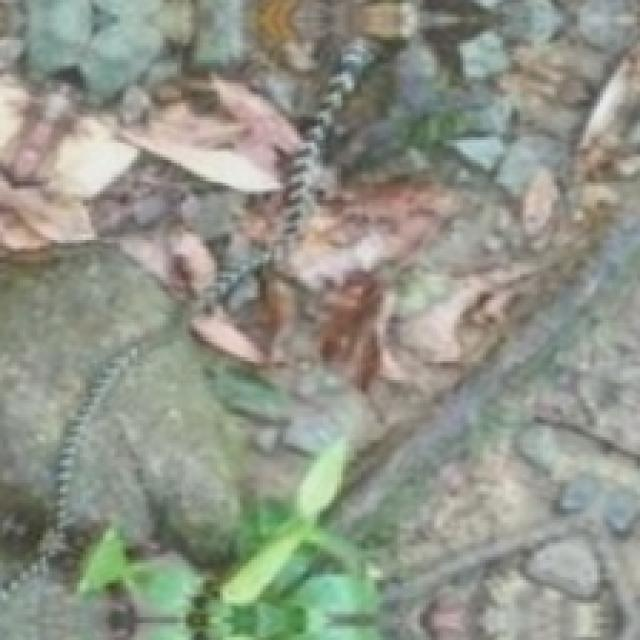king cobra: (0, 0, 374, 637)
